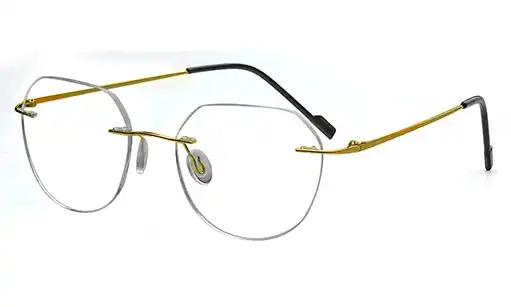spectacles: (8, 49, 347, 256)
